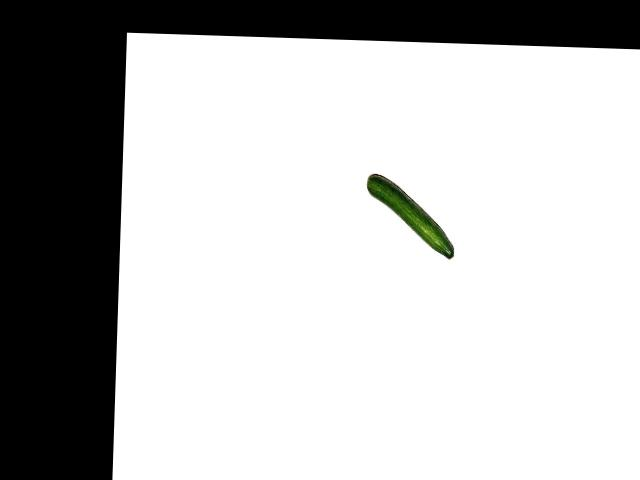cucumber: (364, 173, 456, 258)
